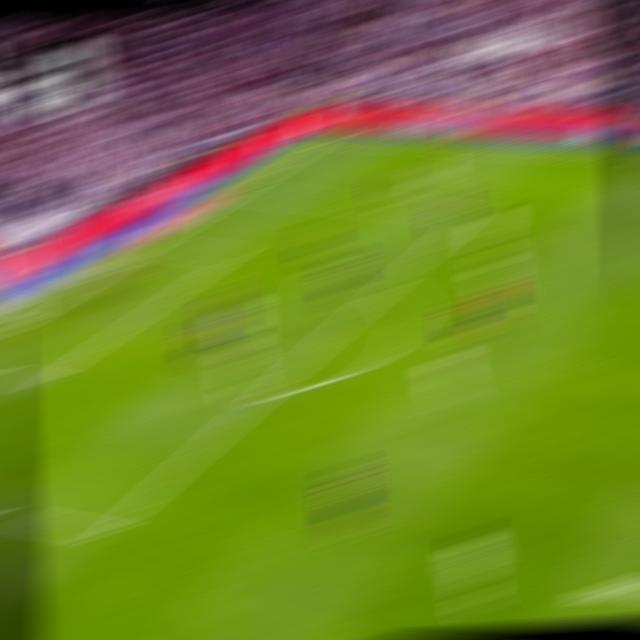bigarea_bottom_inner: (88, 519, 125, 547)
bigarea_top_inner: (454, 207, 484, 220)
bigarea_top_outter: (230, 186, 260, 196)
bottom_arc_area_intersection: (247, 383, 280, 404)
corner: (316, 131, 348, 140)
smallarea_bottom_inner: (29, 372, 60, 390)
smallarea_top_inner: (216, 248, 243, 260)
top_arc_area_intersection: (371, 278, 402, 293)
